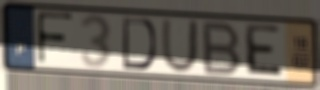3: (79, 12, 115, 70)
B: (201, 19, 244, 77)
D: (120, 15, 158, 72)
E: (243, 22, 286, 80)
F: (35, 10, 76, 68)
U: (160, 18, 200, 75)
